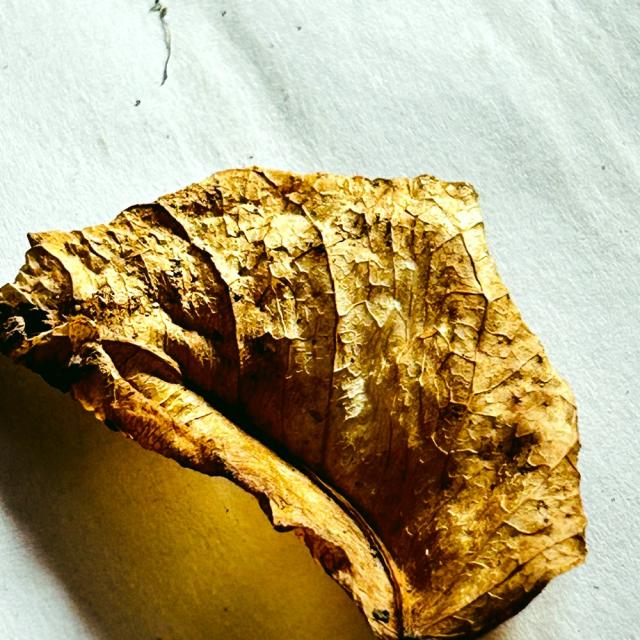DryLeaf_Lemon: (0, 168, 586, 639)
